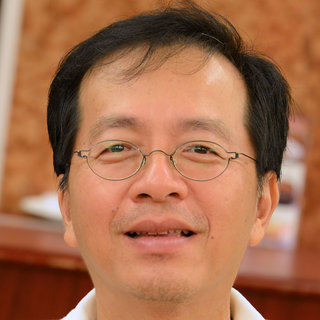eye: (88, 138, 142, 167), (175, 139, 229, 166)
